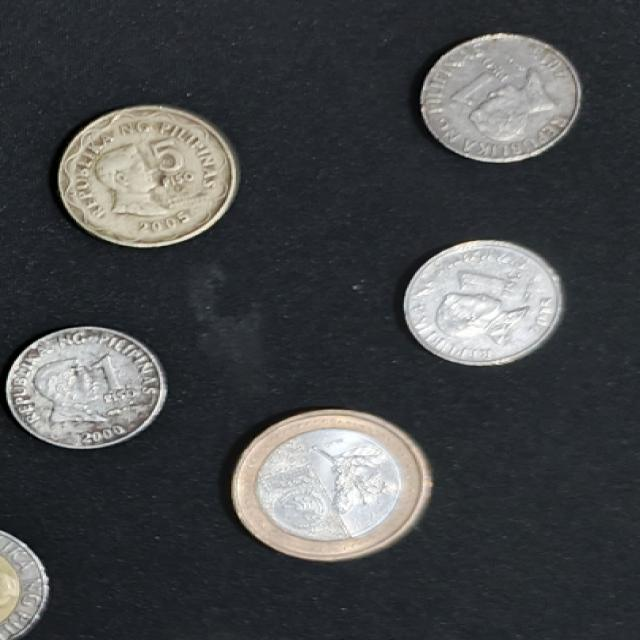1_peso: (421, 33, 580, 162), (404, 241, 562, 365), (6, 327, 165, 448)
20_peso: (233, 410, 431, 560)
5_peso: (59, 106, 238, 246)
